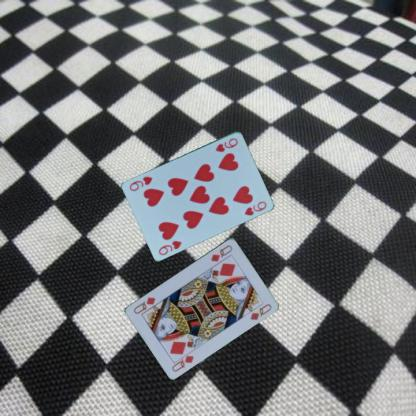9h: (156, 237, 183, 256), (213, 135, 239, 153)
Qd: (169, 348, 195, 372), (208, 242, 233, 263)
